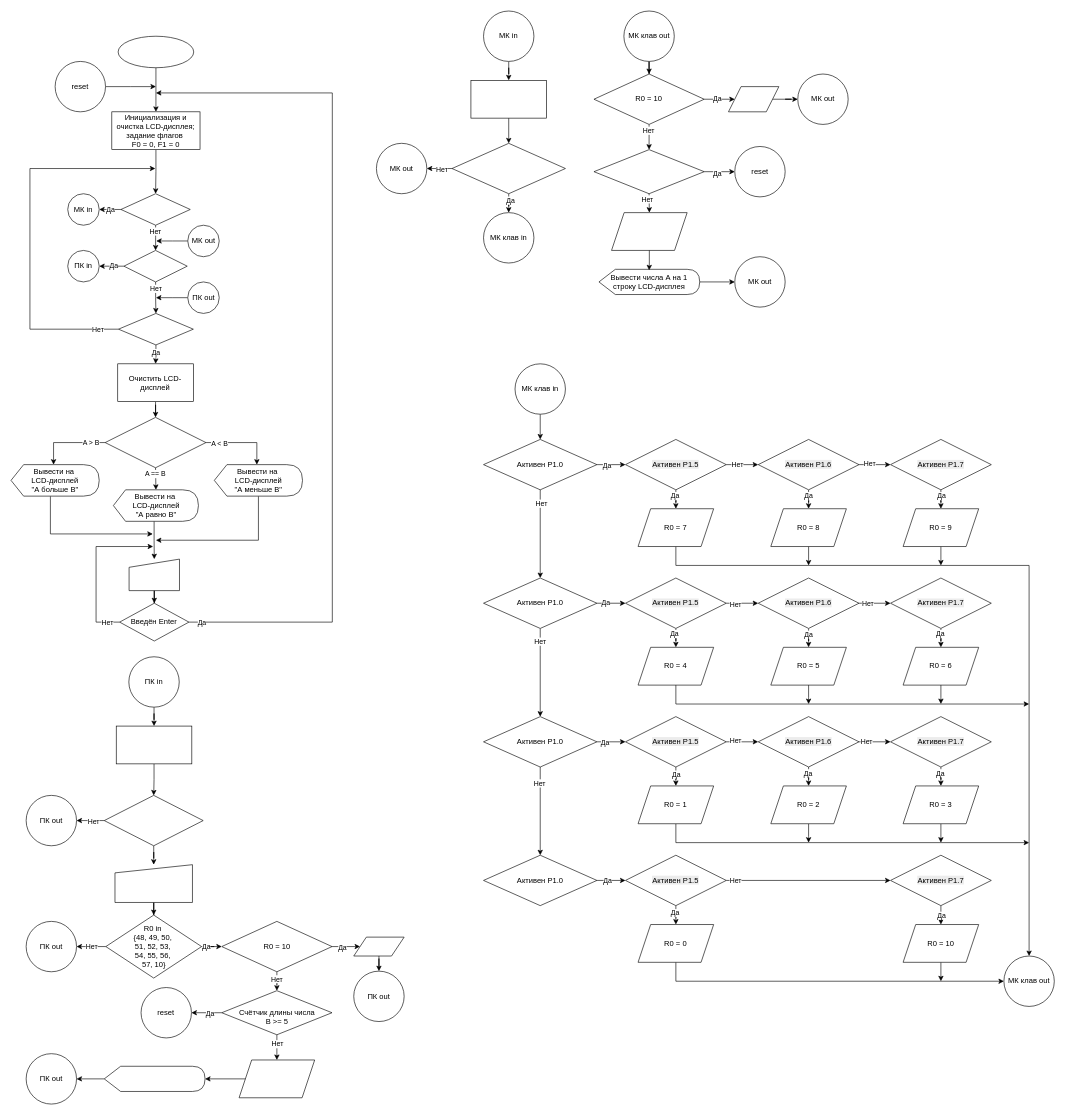
Some shapes in this 1065 by 1115 pixel diagram are drawn without their labels. The shapes that lost their labels are listed below. From the top down, each one's centre as x and y in pixels, then its label:
At point (155, 52): "Начало".
At point (508, 99): "Установить счётчик длины числа А на 0".
At point (753, 99): "F0 = 1".
At point (508, 168): "P1.4 или P1.5 или P1.6".
At point (648, 171): "Счётчик длины числа А >= 5".
At point (155, 209): "F0 = 0".
At point (649, 231): "A = 10*A+R0".
At point (155, 266): "F1 = 0".
At point (155, 329): "F0 = 1 И F1 = 1".
At point (155, 442): "Сравнить числа А и В".
At point (153, 574): "Ввод символа с ПК".
At point (154, 744): "Установить счётчик длины числа В на 0".
At point (153, 820): "Введён новый символ с клавиатуры ПК".
At point (153, 883): "Новый символ записан в R0".
At point (378, 946): "F1 = 1".
At point (154, 1078): "Вывести число В на 2 строку LCD-дисплея".
At point (276, 1078): "B = 10*B+(R0-48)".
